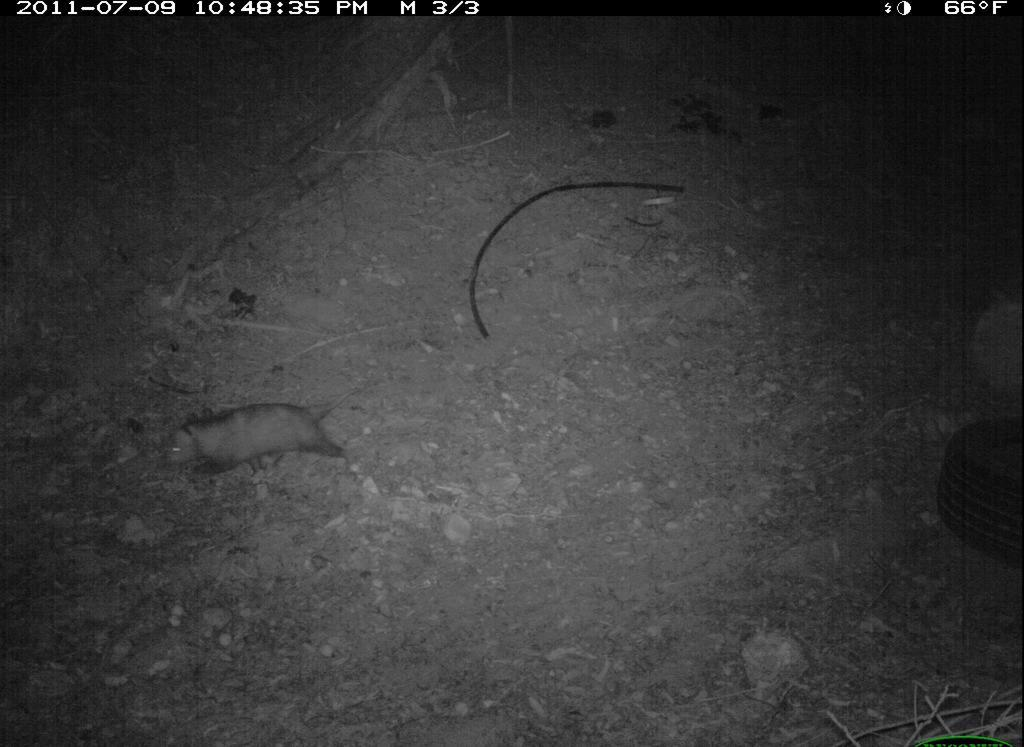opossum: (141, 368, 401, 515)
